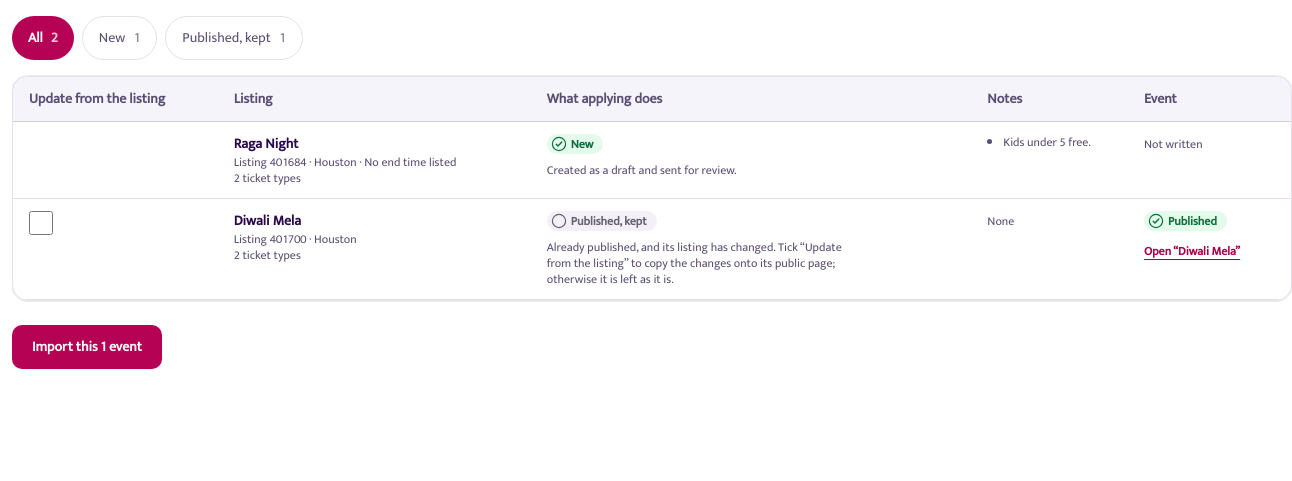
Scenario: a new plan › imports the plan as shown, with only the published events ticked for updating
Expected: the button "Import this 1 event" is shown, [12, 325, 162, 369]
Click the checkbox named "Update “Diwali Mela” from the listing" at (41, 223), box [29, 211, 53, 235]
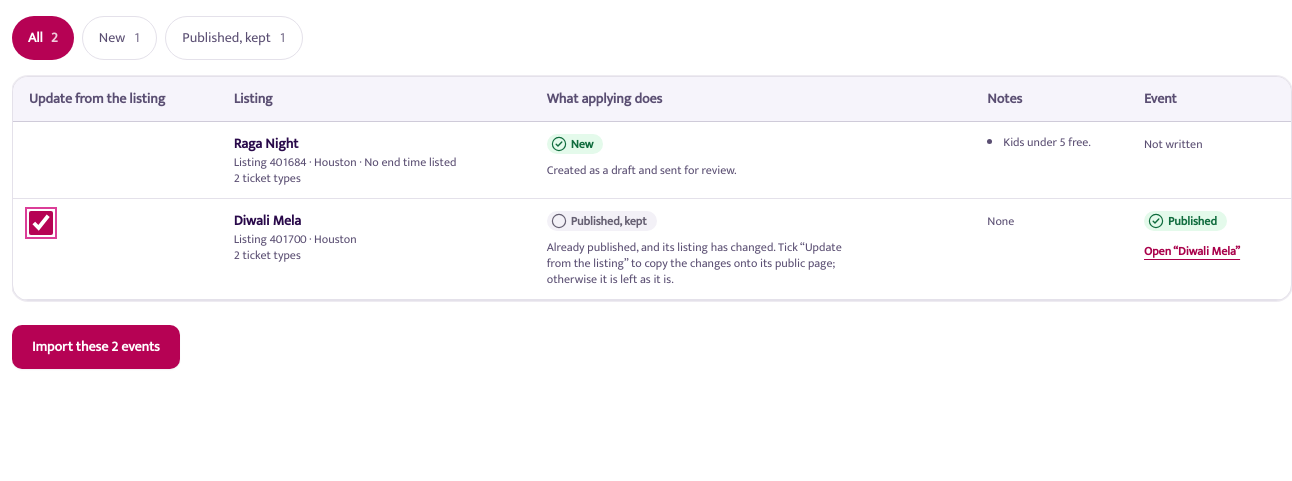
Click the button "Import these 2 events" at (96, 347), box [12, 325, 180, 369]
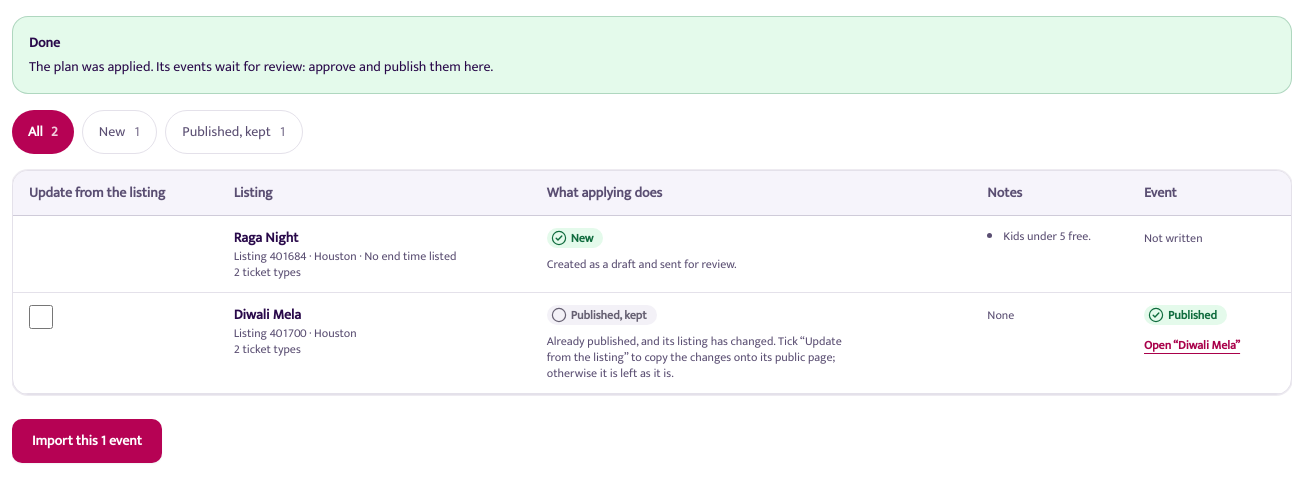
Expected: the text "The plan was applied." is shown, [29, 55, 493, 78]
